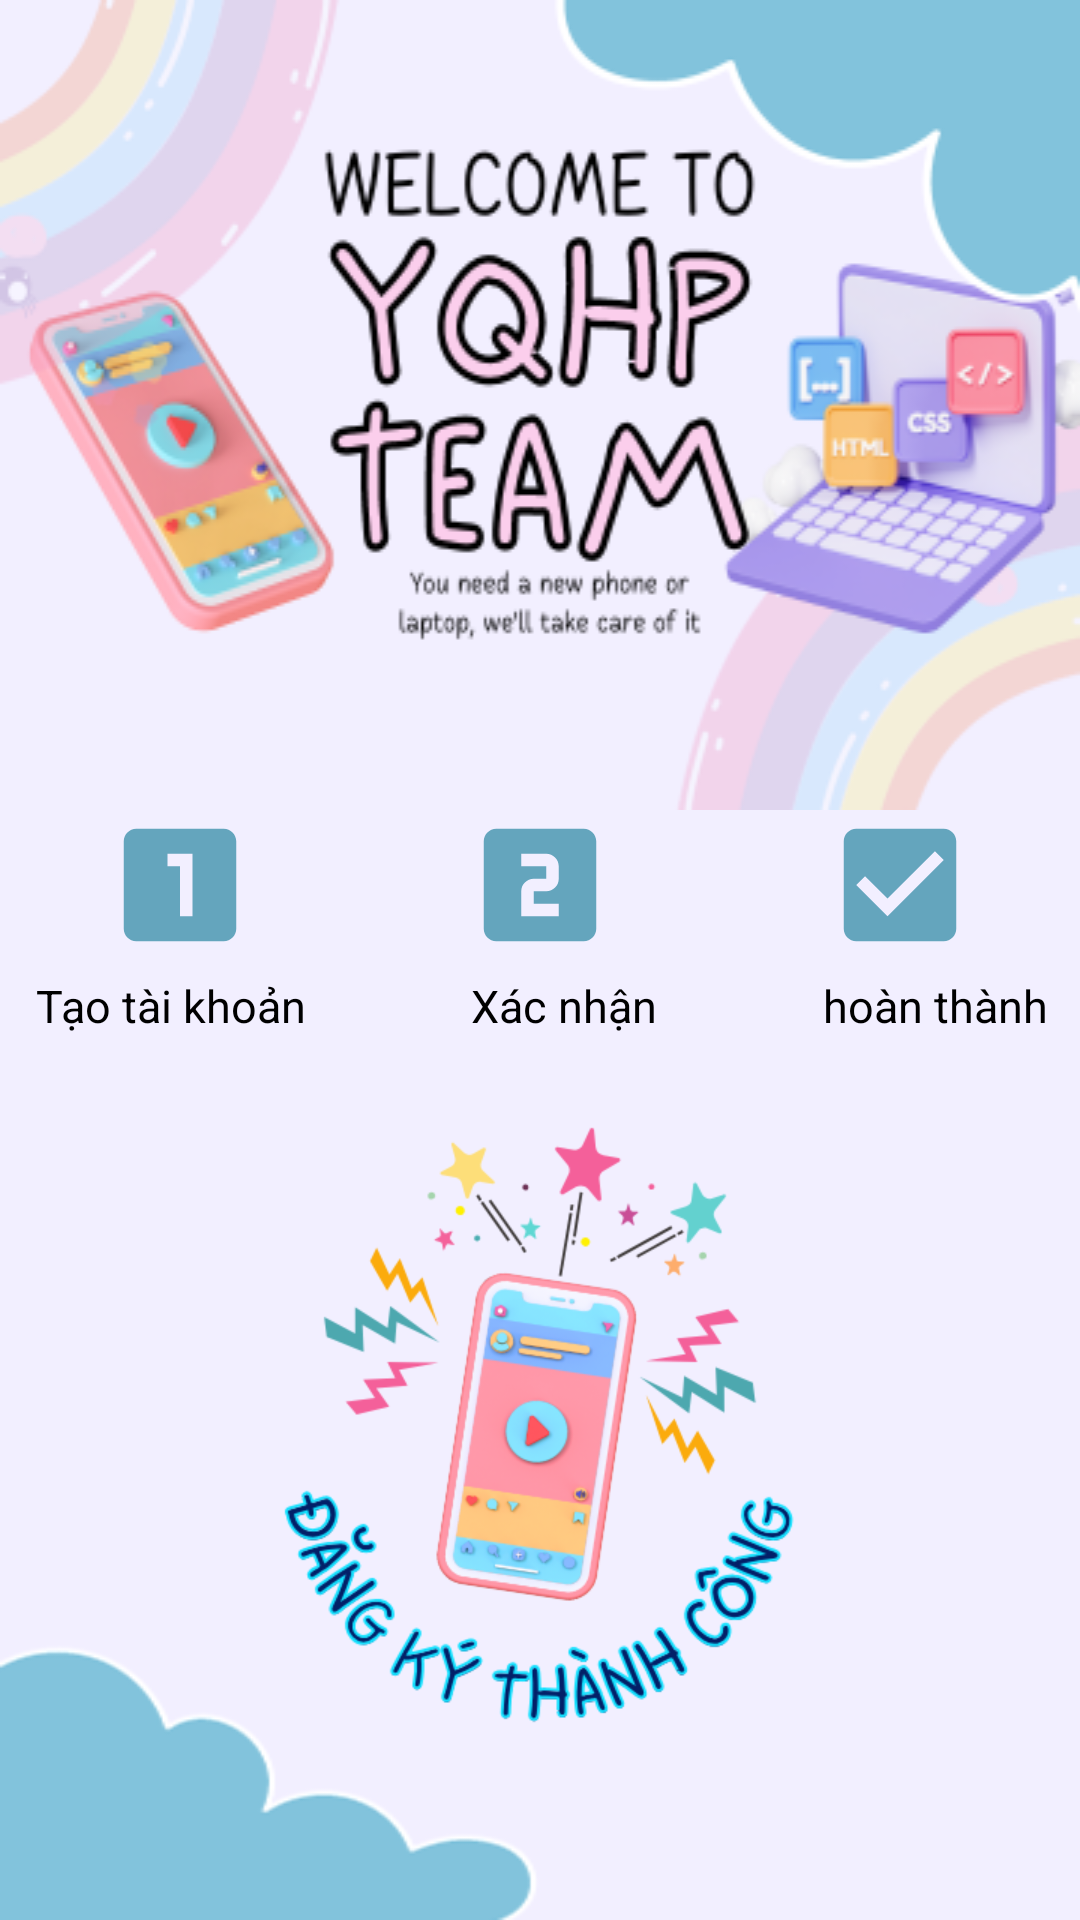

Point at icon controls on the screen. Image size 1080w x 1920h, points as (x=x, y=y).
check box: (x=900, y=885)
looks one: (x=180, y=885)
looks two: (x=540, y=885)
